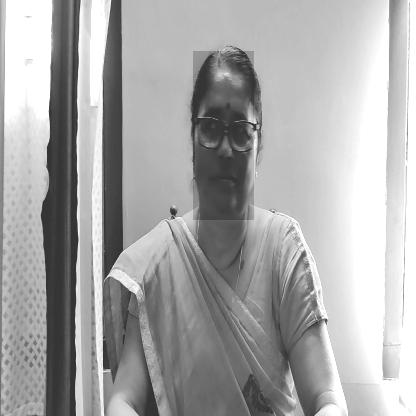Normal: (193, 51, 254, 220)
